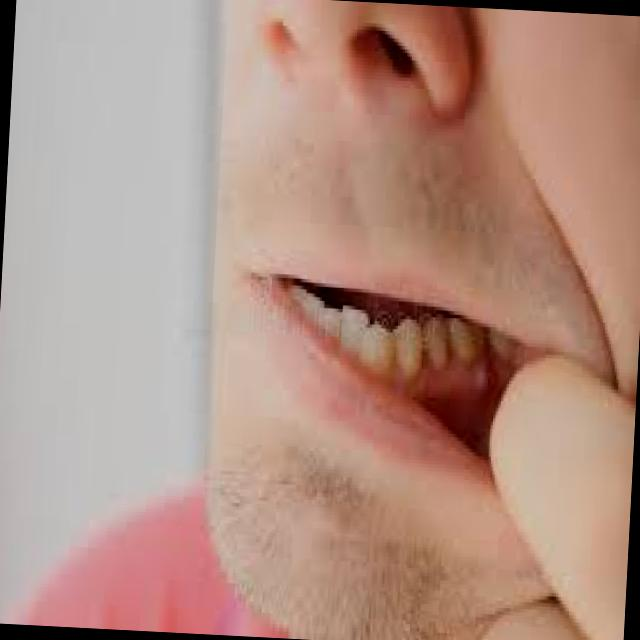abscess: (456, 343, 502, 414)
